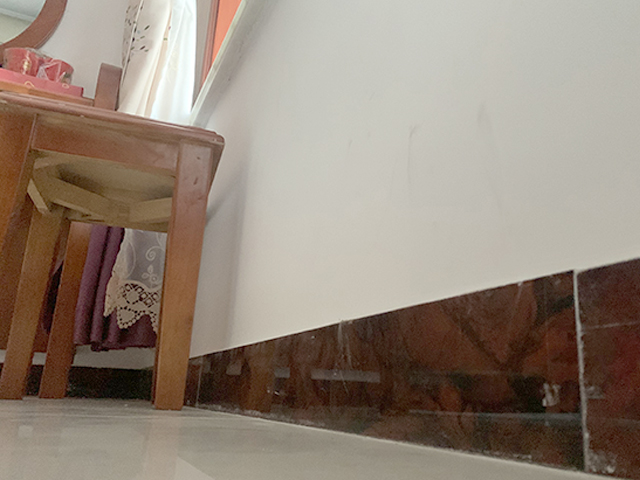stool: (1, 91, 225, 412)
